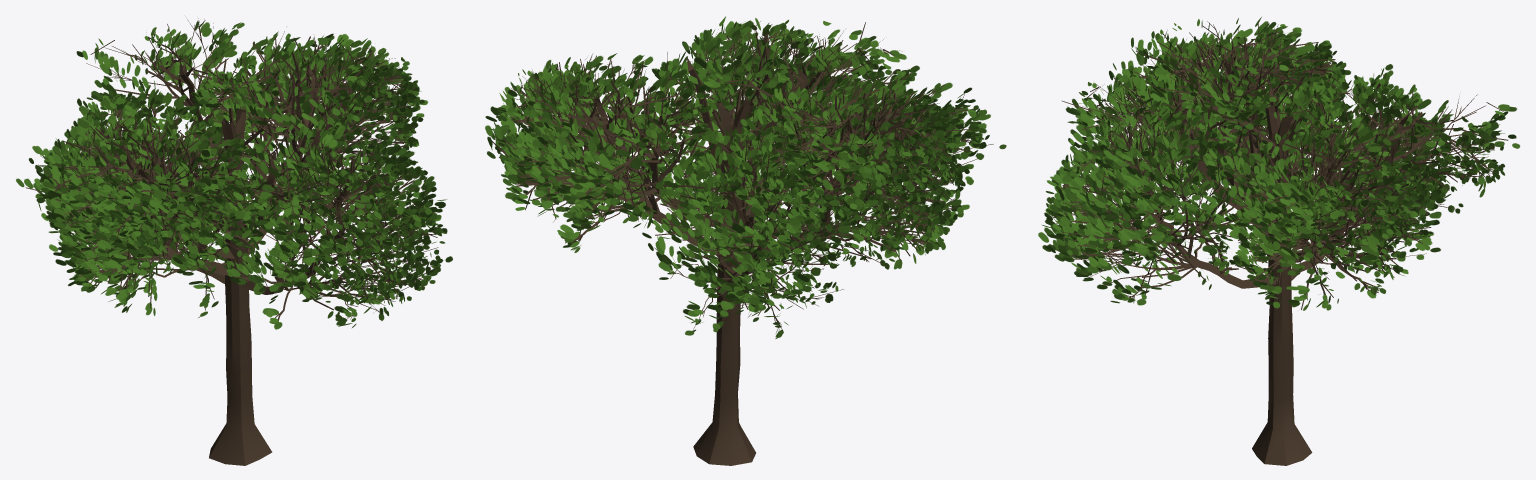
The picture shows the model from 3 angles, left to right: view 1: azimuth 30°, elevation 25°; view 2: azimuth 150°, elevation 25°; view 3: azimuth 270°, elevation 25°; orthographic projection. The views are drawn at different scales.
Visible parts, largest first — view 1: oak 01.001_trunk_Mat.001_0.034; view 2: oak 01.001_trunk_Mat.001_0.034; view 3: oak 01.001_trunk_Mat.001_0.034.
Boxes of the visible parts, box(x1,y1,x2,y2) form: oak 01.001_trunk_Mat.001_0.034: box(16, 18, 452, 465); oak 01.001_trunk_Mat.001_0.034: box(485, 16, 1006, 465); oak 01.001_trunk_Mat.001_0.034: box(1038, 17, 1519, 465).
Size of the model in its own units: 6.41 by 5.45 by 6.69.
Materials: 2 (1 with a texture image).
